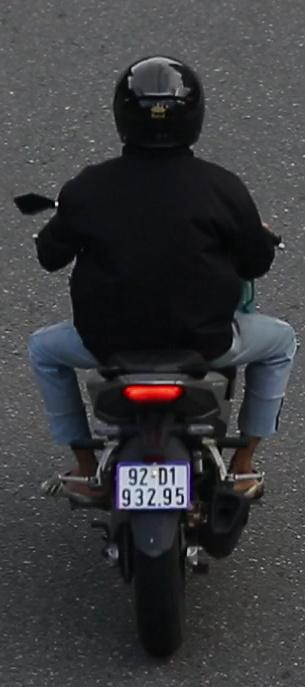LP: (114, 458, 195, 518)
helmet: (109, 50, 210, 161)
